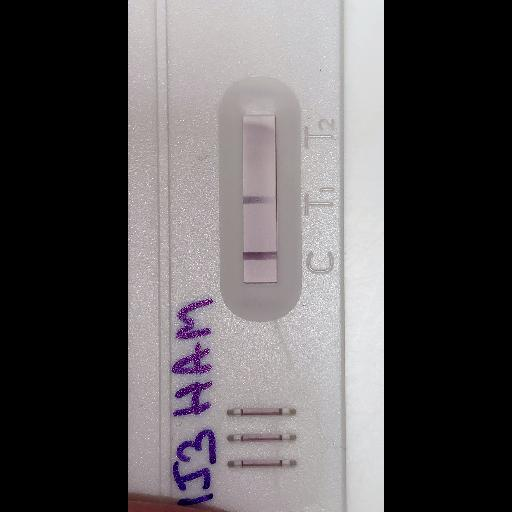Pos: (127, 0, 351, 511)
